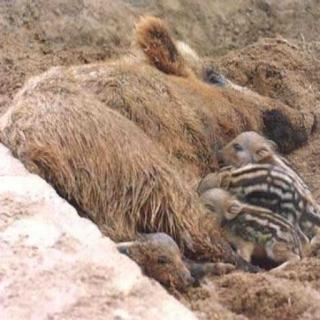Pig: (2, 35, 320, 312), (212, 132, 320, 186)
